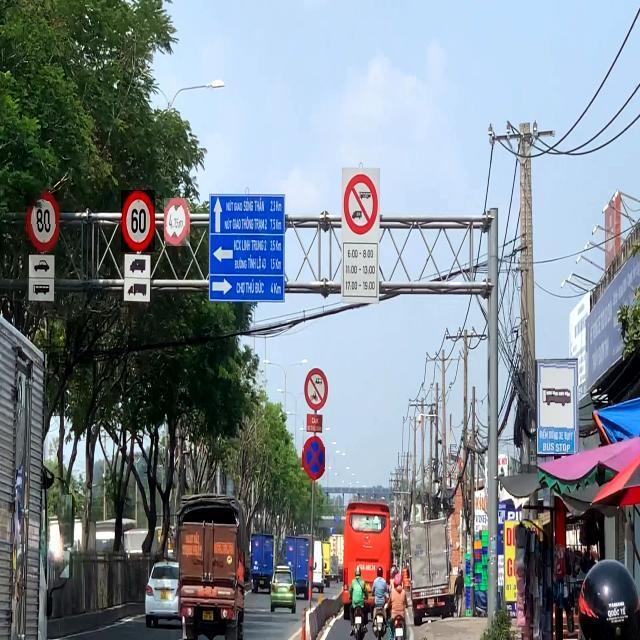P-117: (164, 198, 190, 246)
P-127: (25, 190, 59, 252), (121, 190, 155, 252)
P-130: (302, 437, 325, 481)
R-434: (537, 361, 579, 455)
